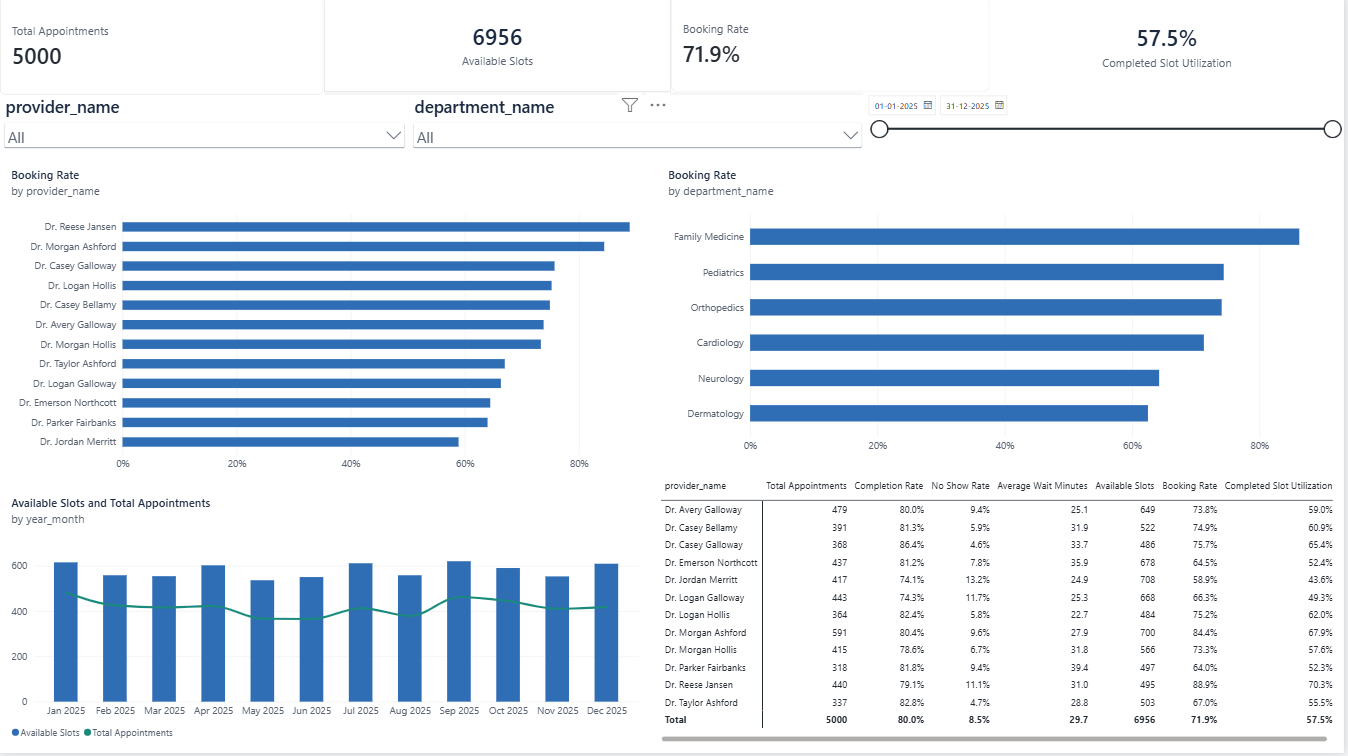

This screenshot's page, from the dashboard's own definition file:
{"tool":"powerbi","page":{"name":"Capacity and Provider Performance","canvas":[1920,1080],"ordinal":1},"visuals":[{"type":"cardVisual","fields":{"Data":["Appointments.Total Appointments"]},"box":[0,0,462.9,140],"z":0},{"type":"cardVisual","fields":{"Data":["Appointments.Booking Rate"]},"box":[958.6,0,455.7,135.7],"z":1000},{"type":"slicer","fields":{"Values":["Providers.provider_name"]},"box":[0,140,584.3,88.6],"z":2000},{"type":"slicer","fields":{"Values":["Departments.department_name"]},"box":[584.3,140,652.9,88.6],"z":3000},{"type":"slicer","fields":{"Values":["Date.date"]},"box":[1232.9,135.7,687.1,92.9],"z":4000},{"type":"card","fields":{"Values":["Appointments.Completed Slot Utilization"]},"box":[1414.3,0,505.7,140],"z":5000},{"type":"card","fields":{"Values":["Appointments.Available Slots"]},"box":[462.9,0,495.7,135.7],"z":6000},{"type":"clusteredBarChart","fields":{"Category":["Providers.provider_name"],"Y":["Appointments.Booking Rate"]},"box":[0,228.6,938.6,468.6],"z":7000},{"type":"clusteredBarChart","fields":{"Category":["Departments.department_name"],"Y":["Appointments.Booking Rate"]},"box":[938.6,228.6,981.4,442.9],"z":8000},{"type":"lineClusteredColumnComboChart","fields":{"Category":["Date.year_month"],"Y":["Appointments.Available Slots"],"Y2":["Appointments.Total Appointments"]},"box":[0,697.1,928.6,382.9],"z":9000},{"type":"pivotTable","fields":{"Rows":["Providers.provider_name"],"Values":["Appointments.Total Appointments","Appointments.Completion Rate","Appointments.No Show Rate","Appointments.Average Wait Minutes","Appointments.Available Slots","Appointments.Booking Rate","Appointments.Completed Slot Utilization"]},"box":[928.6,671.4,991.4,408.6],"z":10000}]}

Visuals, with their boxes in screenshot pixels (x1, y1, x2, y2), scaled from the page's 1920x1080 canvas onto the 1348x756 screenshot:
cardVisual - Appointments.Total Appointments: [left=0, top=0, right=325, bottom=98]
cardVisual - Appointments.Booking Rate: [left=673, top=0, right=993, bottom=95]
slicer - Providers.provider_name: [left=0, top=98, right=410, bottom=160]
slicer - Departments.department_name: [left=410, top=98, right=869, bottom=160]
slicer - Date.date: [left=866, top=95, right=1347, bottom=160]
card - Appointments.Completed Slot Utilization: [left=993, top=0, right=1347, bottom=98]
card - Appointments.Available Slots: [left=325, top=0, right=673, bottom=95]
clusteredBarChart - Providers.provider_name x Appointments.Booking Rate: [left=0, top=160, right=659, bottom=488]
clusteredBarChart - Departments.department_name x Appointments.Booking Rate: [left=659, top=160, right=1347, bottom=470]
lineClusteredColumnComboChart - Date.year_month x Appointments.Available Slots: [left=0, top=488, right=652, bottom=755]
pivotTable - Providers.provider_name x Appointments.Total Appointments: [left=652, top=470, right=1347, bottom=755]
